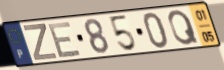0: (142, 11, 170, 50)
5: (106, 13, 139, 53)
8: (83, 17, 111, 56)
E: (47, 20, 84, 60)
Q: (167, 8, 201, 47)
Z: (22, 22, 60, 62)
